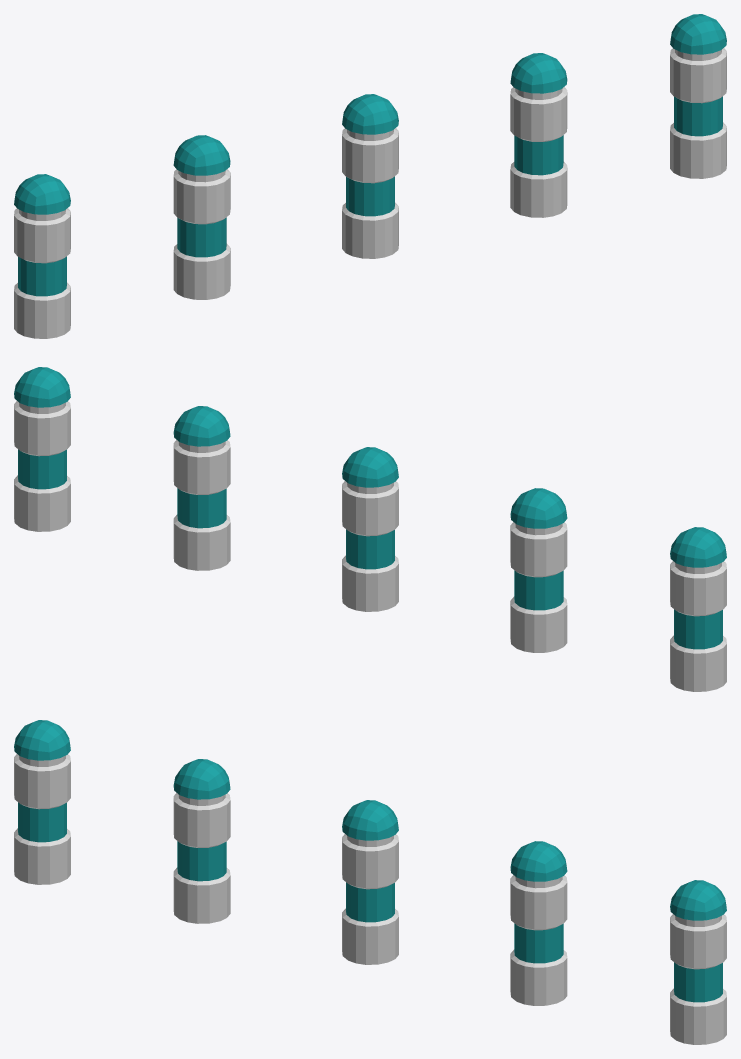
The model's file is barier.fbx.
3 views of the same model, one above another, from view 1: azimuth 30°, elevation 25°; view 2: azimuth 150°, elevation 25°; view 3: azimuth 330°, elevation 25° (orthographic).
Parts seen in each view (by area): view 1: barier; view 2: barier; view 3: barier.
Part boxes in pixels (x1,y1,x2,y2): barier: (14, 14, 726, 338); barier: (14, 367, 726, 691); barier: (14, 720, 726, 1044).
Size of the model in its own units: 599 by 122 by 42.37.
